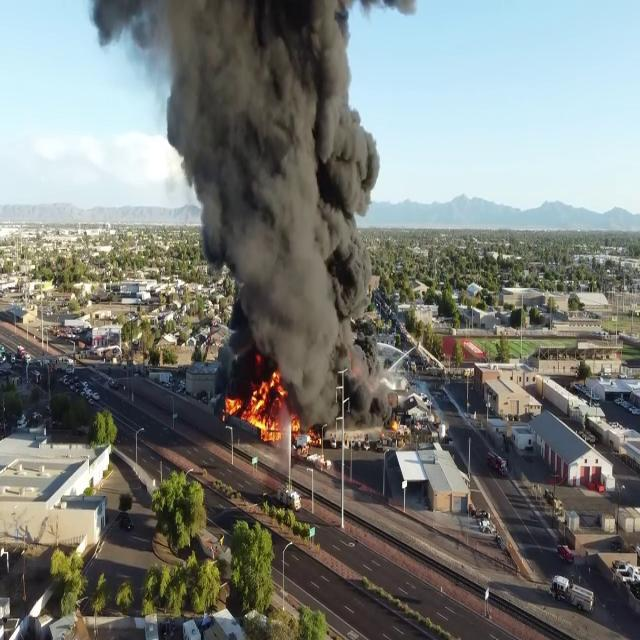Fire: (227, 366, 309, 442)
Smoke: (143, 1, 399, 410)
